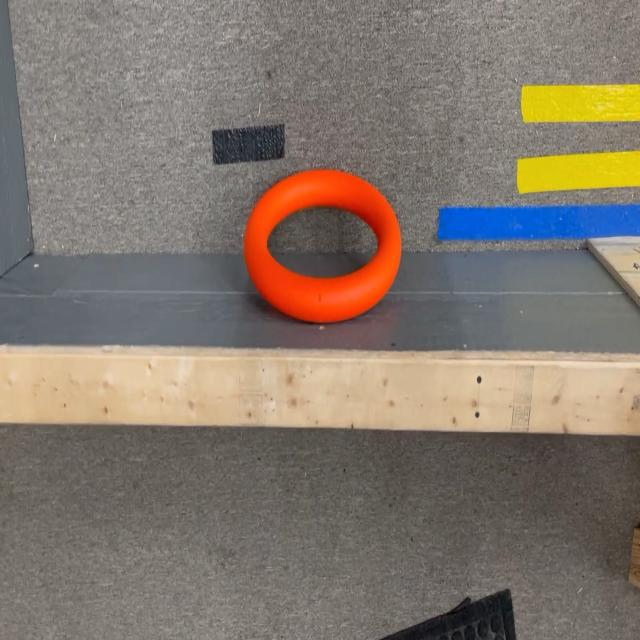note: (245, 169, 401, 321)
